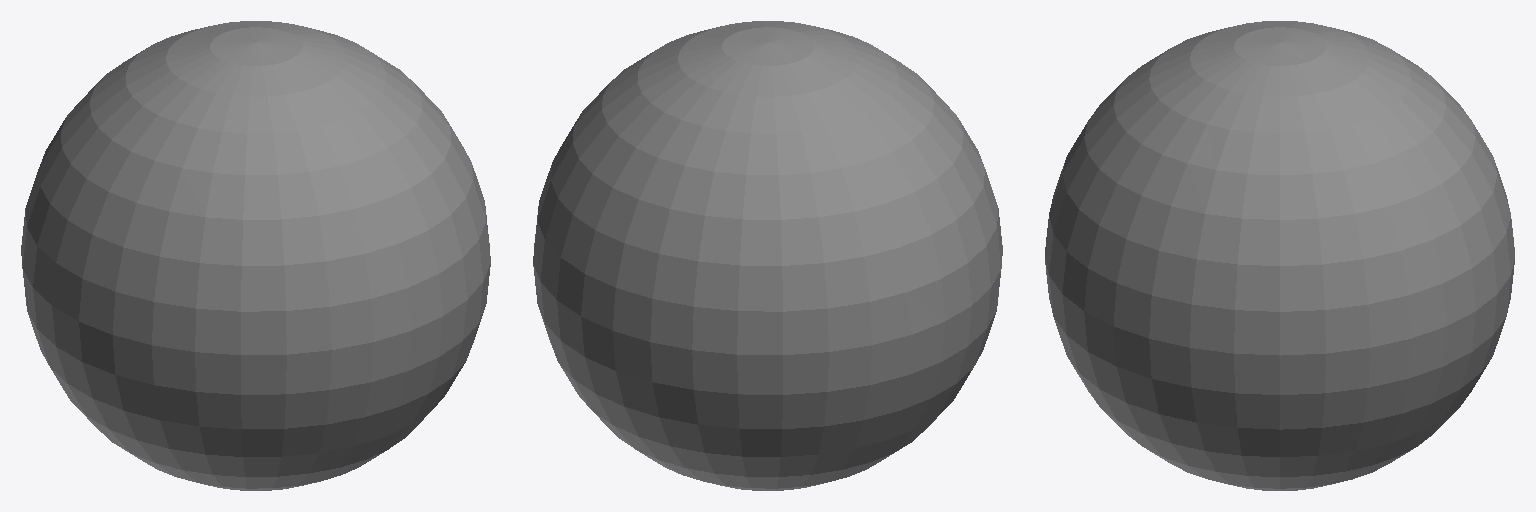
The model's file is QHCBall.obj.
3 renders of one model, left to right at view 1: azimuth 30°, elevation 25°; view 2: azimuth 150°, elevation 25°; view 3: azimuth 270°, elevation 25°, orthographic.
Parts seen in each view (by area): view 1: Sphere001; view 2: Sphere001; view 3: Sphere001.
Boxes of the visible parts, x1,y1,x2,y2 form: Sphere001: [21, 21, 490, 490]; Sphere001: [533, 21, 1002, 490]; Sphere001: [1045, 21, 1514, 490].
Size of the model in its own units: 105 by 105 by 105.